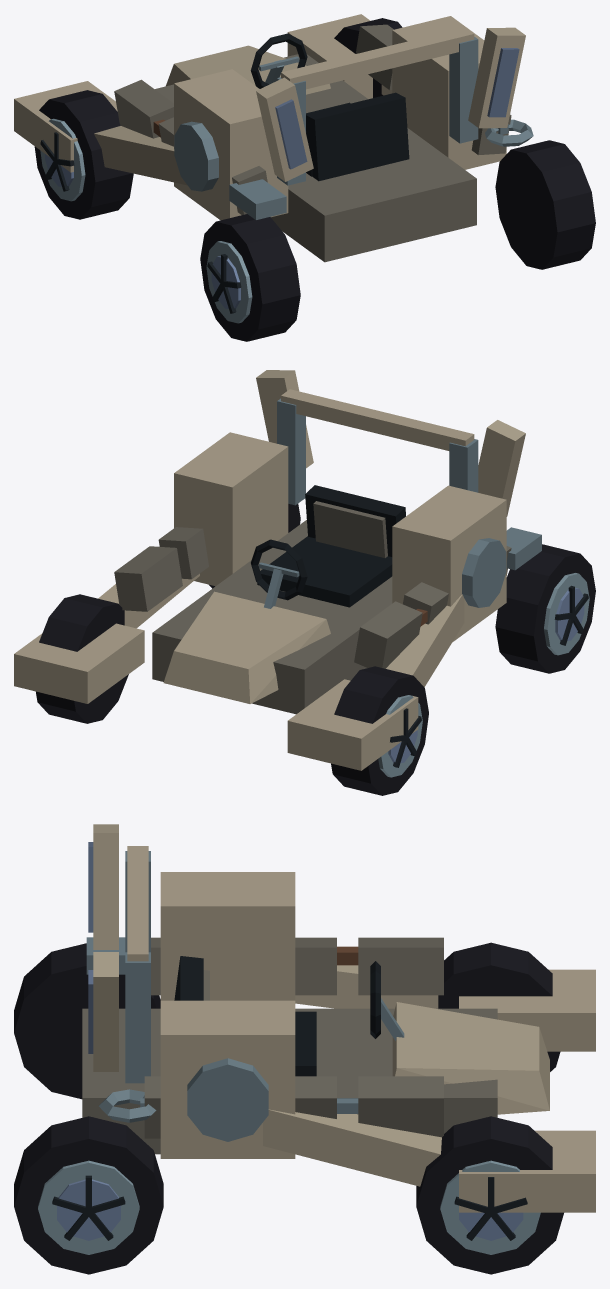
Rendered from kart.glb.
3 renders of one model, top to bottom at view 1: azimuth 30°, elevation 25°; view 2: azimuth 150°, elevation 25°; view 3: azimuth 270°, elevation 25°, orthographic. The views are drawn at different scales.
Visible parts, largest first — view 1: identity-mech-mech-articulated-limbs-and-open-harness, wheel-rear-right, wheel-rear-left, identity-mech-driver-cockpit, wheel-front-left, identity-mech-motif-ears, identity-mech-motif-armor, identity-mech-motif-tools, wheel-front-right; view 2: identity-mech-mech-articulated-limbs-and-open-harness, identity-mech-driver-cockpit, wheel-rear-left, identity-mech-motif-armor, wheel-front-left, wheel-front-right, identity-mech-motif-ears, identity-mech-motif-tools; view 3: identity-mech-mech-articulated-limbs-and-open-harness, wheel-rear-right, identity-mech-motif-armor, wheel-front-right, wheel-rear-left, identity-mech-motif-ears, wheel-front-left, identity-mech-driver-cockpit, identity-mech-motif-tools.
Boxes of the visible parts, x1,y1,x2,y2 form: identity-mech-mech-articulated-limbs-and-open-harness: (14,14,506,262); wheel-rear-right: (495,140,595,269); wheel-rear-left: (200,214,300,341); identity-mech-driver-cockpit: (250,33,409,181); wheel-front-left: (34,90,133,219); identity-mech-motif-ears: (256,27,525,181); identity-mech-motif-armor: (114,24,511,214); identity-mech-motif-tools: (153,119,533,219); wheel-front-right: (334,18,402,97); identity-mech-mech-articulated-limbs-and-open-harness: (14,389,506,770); identity-mech-driver-cockpit: (251,485,405,608); wheel-rear-left: (495,544,595,673); identity-mech-motif-armor: (114,527,511,668); wheel-front-left: (331,666,428,795); wheel-front-right: (36,594,128,723); identity-mech-motif-ears: (256,370,525,516); identity-mech-motif-tools: (416,527,541,626); identity-mech-mech-articulated-limbs-and-open-harness: (82,846,595,1212); wheel-rear-right: (14,1116,163,1274); identity-mech-motif-armor: (144,937,443,1138); wheel-front-right: (416,1116,563,1274); wheel-rear-left: (14,943,160,1099); identity-mech-motif-ears: (88,824,118,1071); wheel-front-left: (438,942,560,1071); identity-mech-driver-cockpit: (174,956,404,1076); identity-mech-motif-tools: (86,937,358,1122).
Size of the model in its own units: 2.29 by 1.46 by 2.72.
